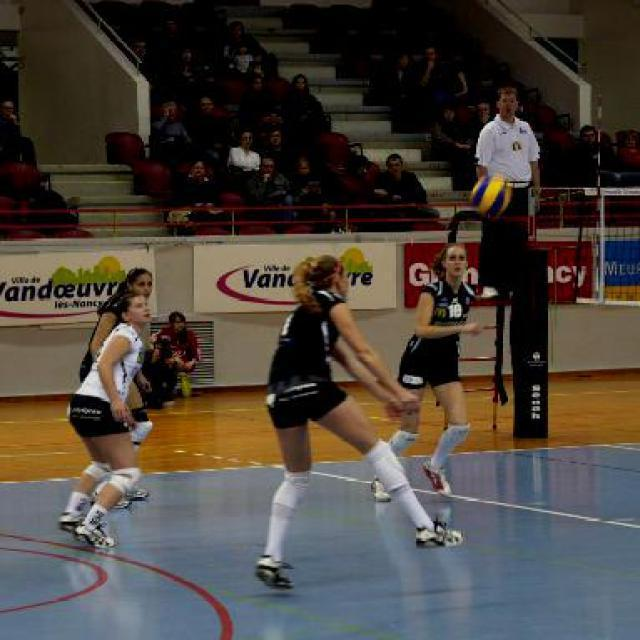volleyball: (471, 176, 512, 218)
